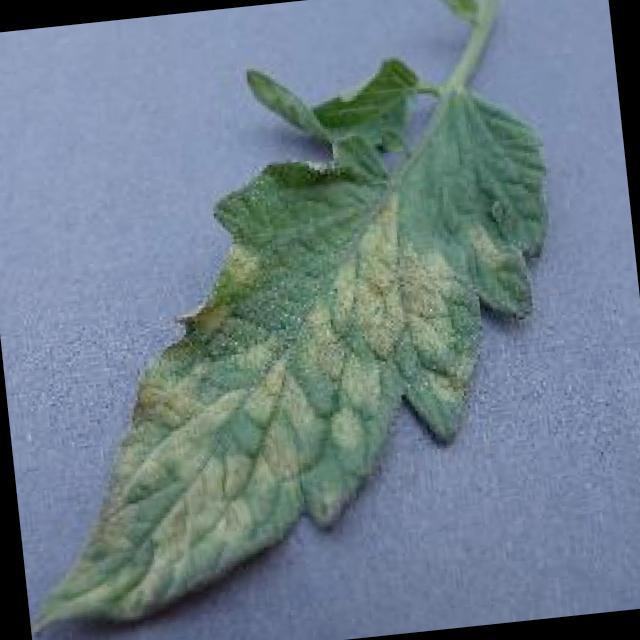Tomato mold leaf: (0, 84, 592, 640)
